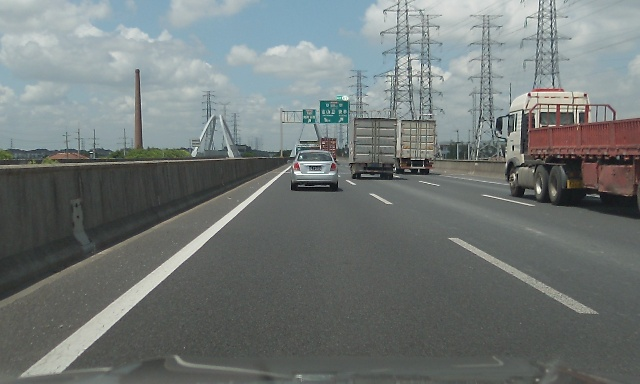car: (287, 150, 338, 192)
truck: (494, 89, 640, 221), (344, 118, 398, 180), (384, 120, 437, 175), (319, 138, 337, 162)
